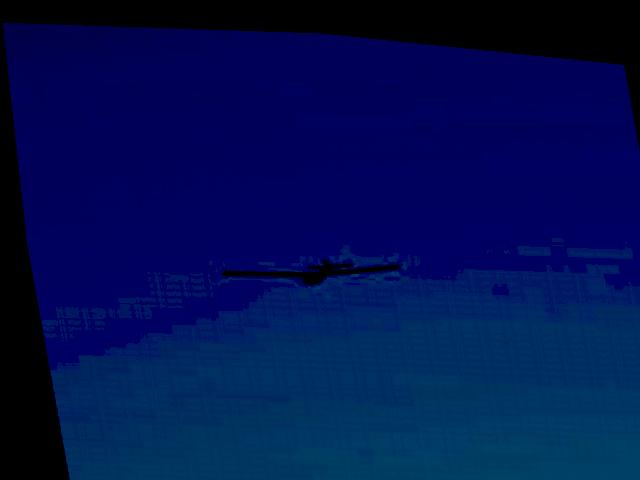iha: (208, 230, 408, 296)
